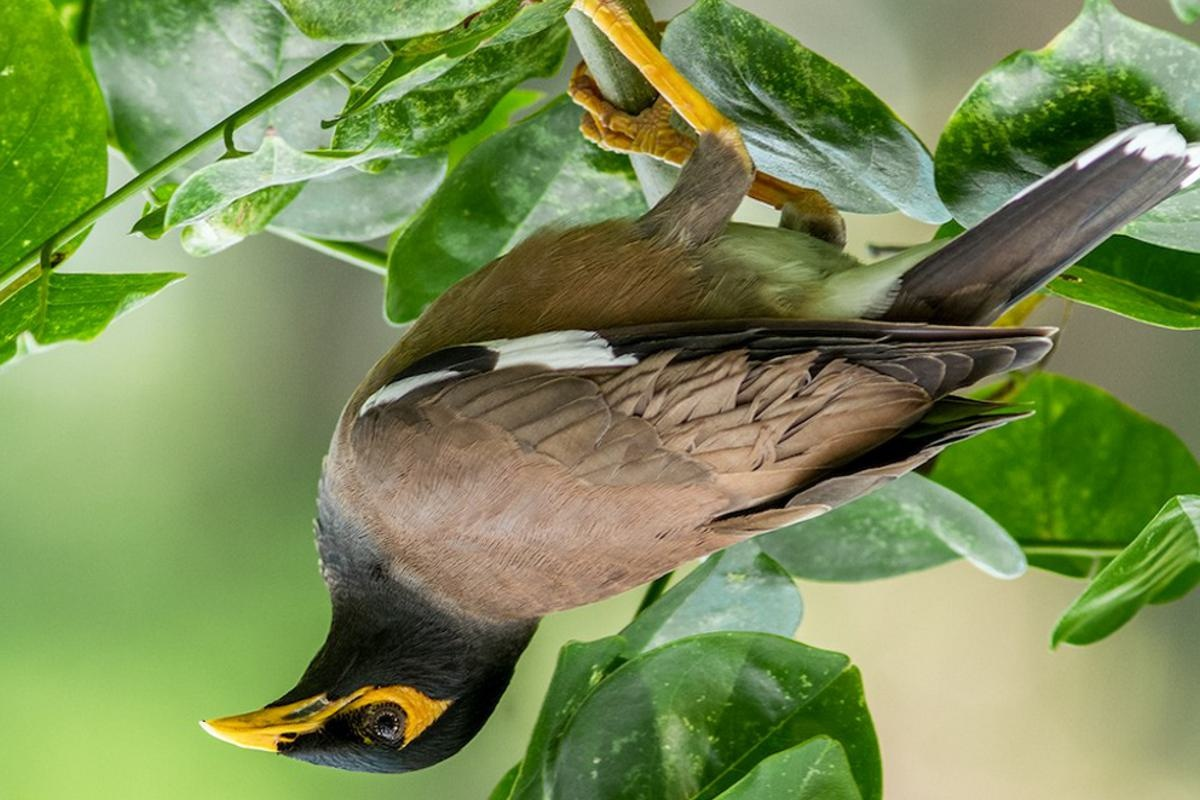myna: (195, 105, 1160, 778)
